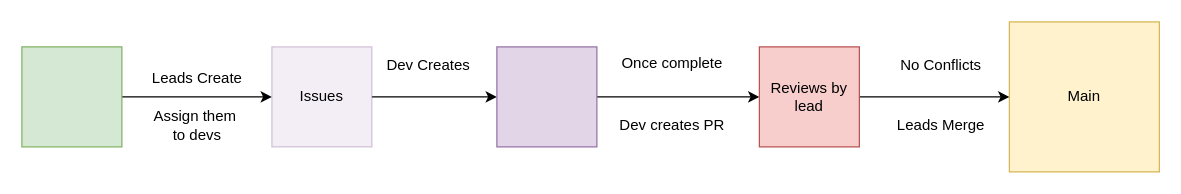
Image size: 1181x194. Some labels were removed from this diagram. The centre of each missing label's shape, as x and y in pixels:
"Branch" goes at (x=546, y=96).
"User Stories" goes at (x=71, y=96).
